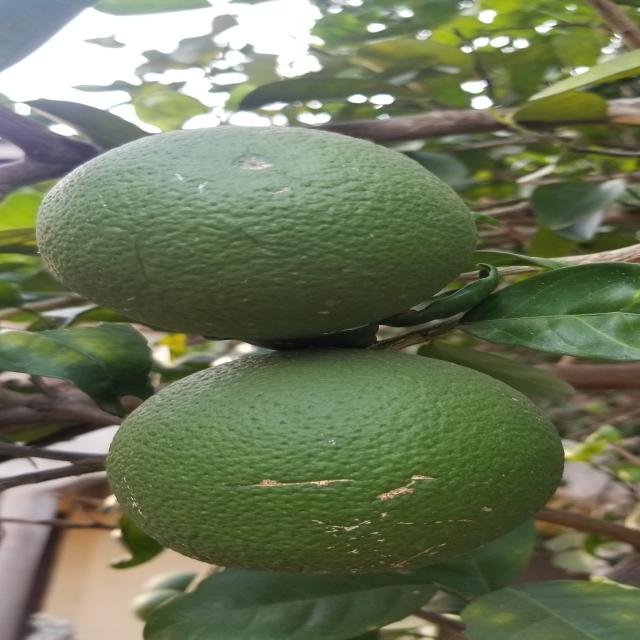Unripe: (95, 343, 578, 582), (49, 125, 460, 338)
